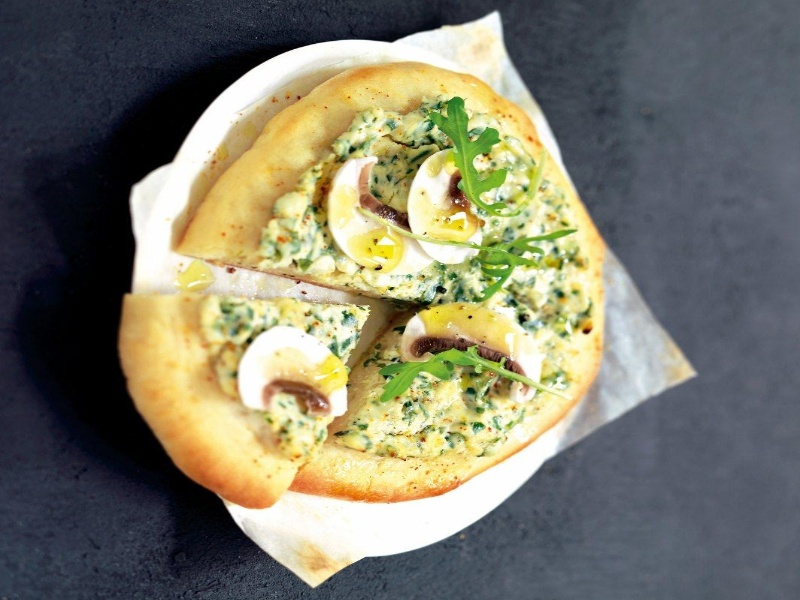champignon: (390, 299, 551, 400), (323, 156, 431, 289), (230, 320, 358, 423), (407, 142, 489, 276)
